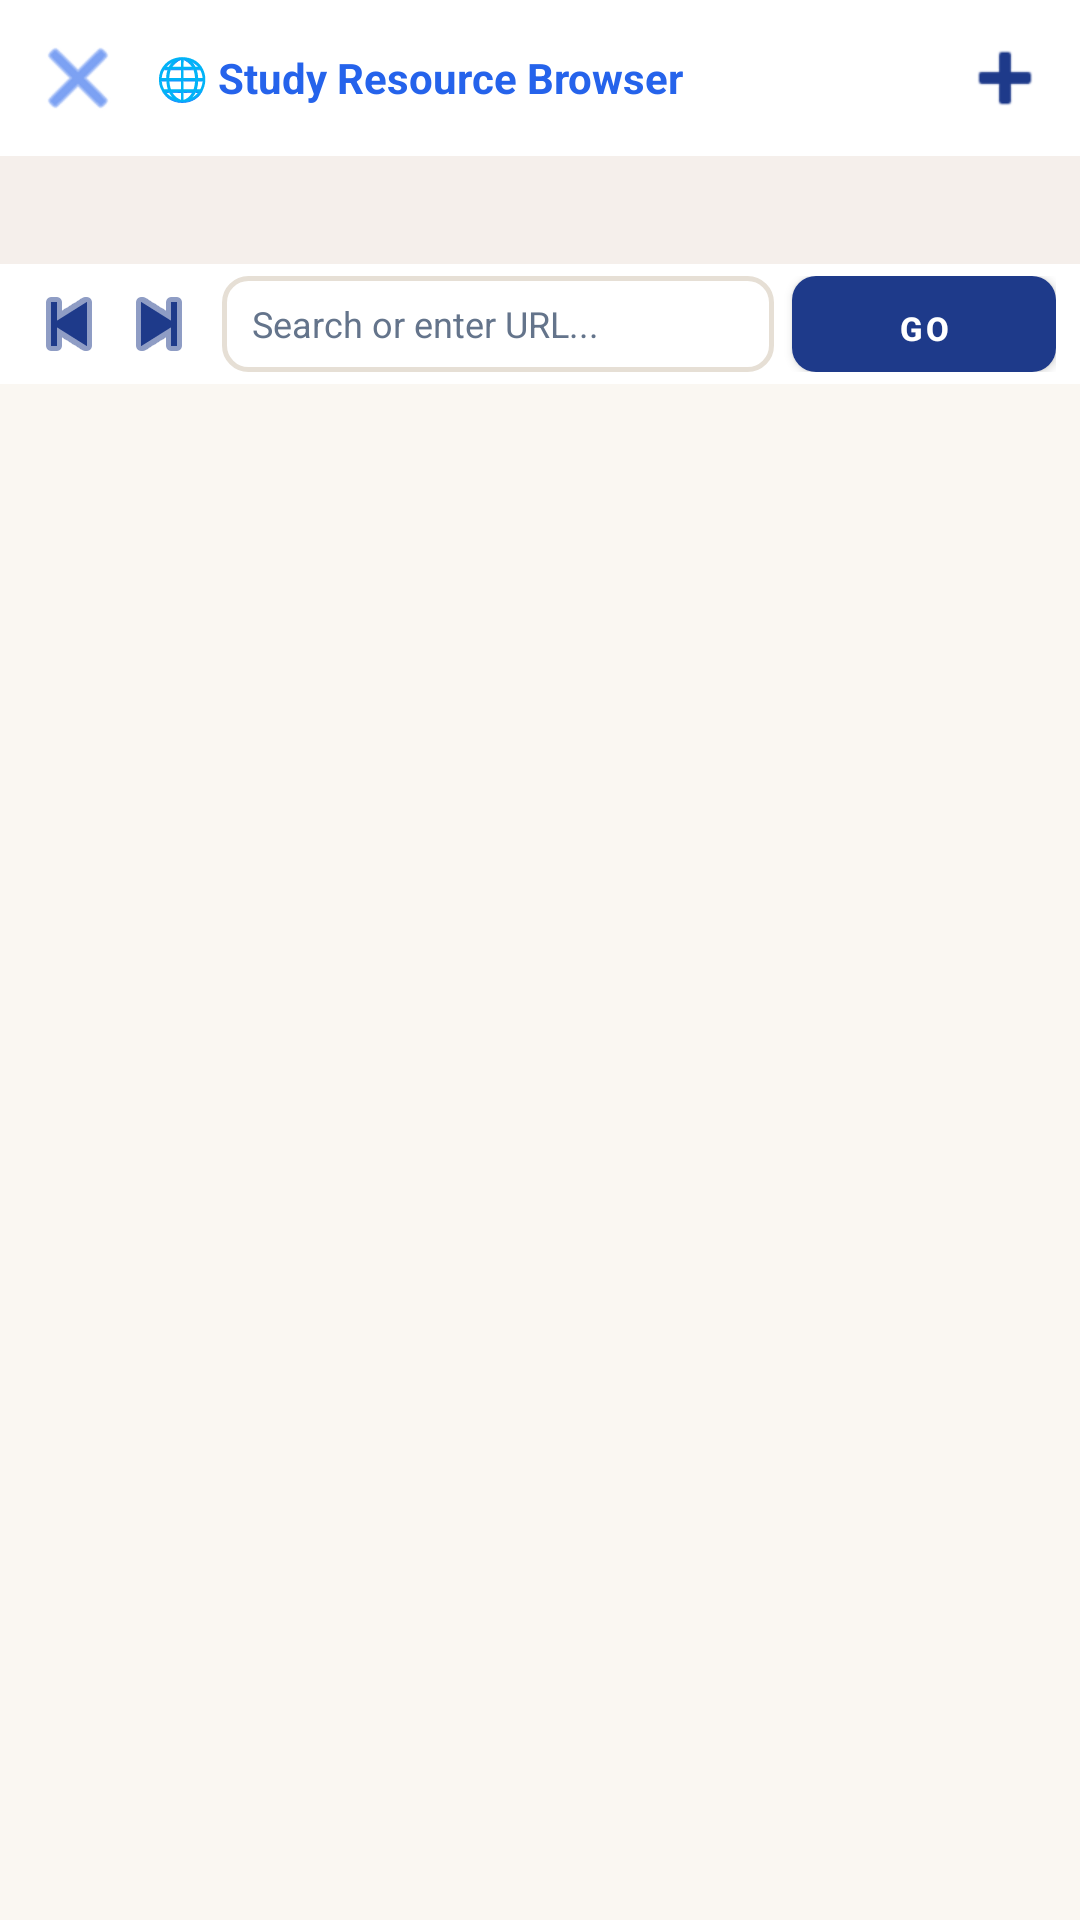

Point at icon controls on the screen. Image size 1080*1920, points as [x,y].
Back: [69,324]
Close Browser: [78,78]
Forward: [159,324]
New Tab: [1005,78]
